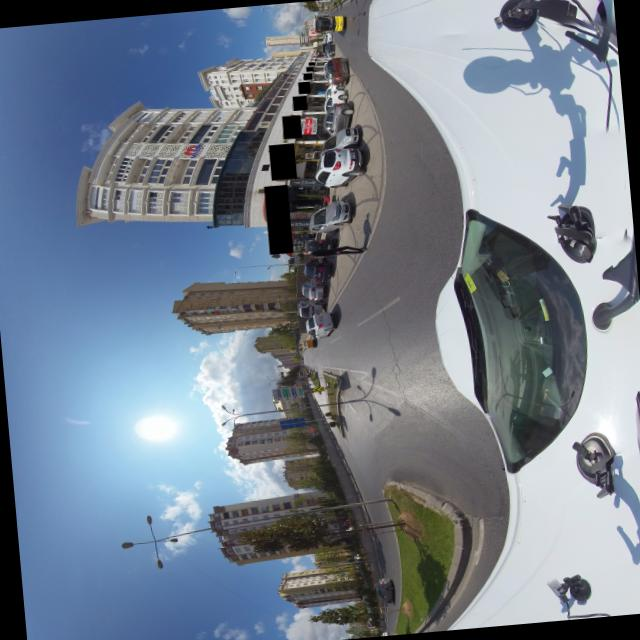SignStore: (268, 184, 287, 253), (271, 142, 294, 178), (283, 113, 300, 138), (293, 94, 306, 109), (298, 80, 309, 92), (303, 72, 312, 79), (306, 65, 313, 70), (308, 61, 314, 64)
